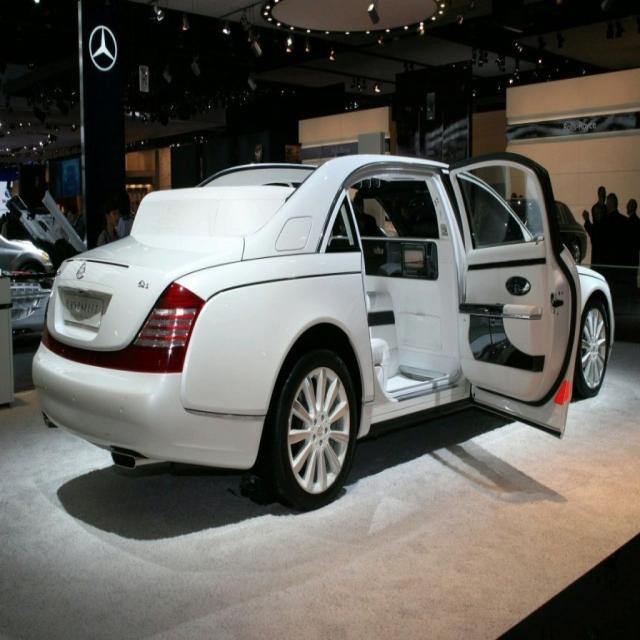car: (26, 116, 624, 477)
